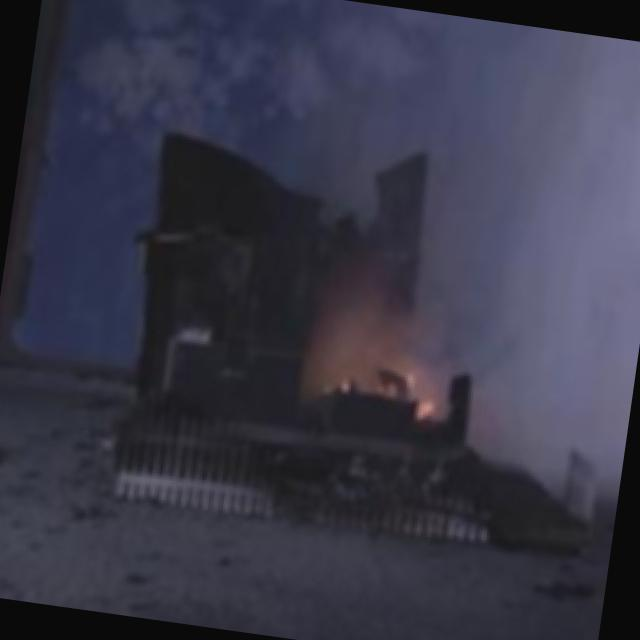smoke: (329, 6, 640, 403)
